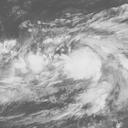cyclone: (61, 46, 103, 85)
